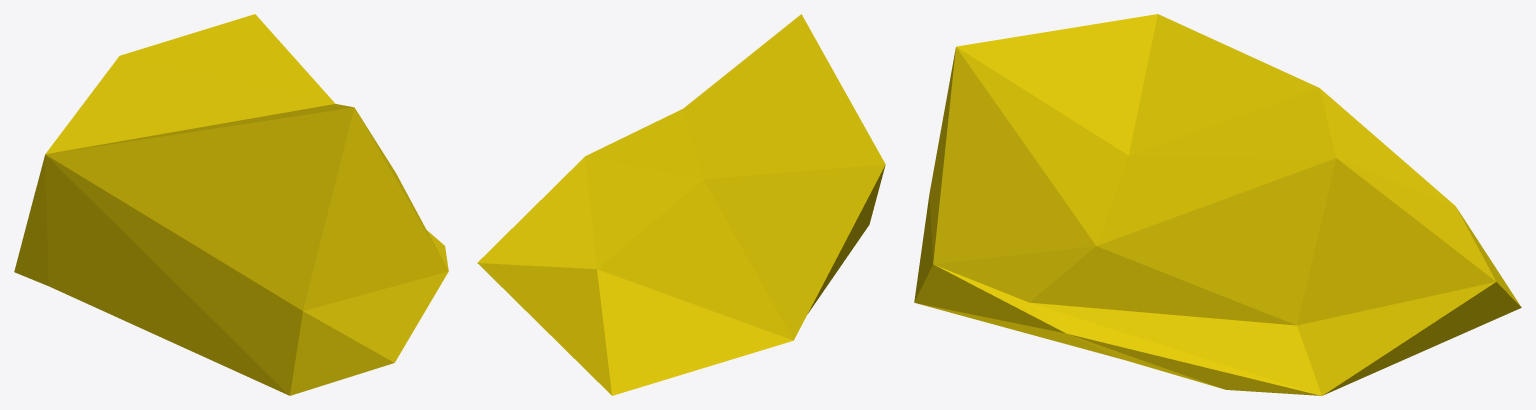
The model's file is Bush#10.fbx.
3 renders of one model, left to right at view 1: azimuth 30°, elevation 25°; view 2: azimuth 150°, elevation 25°; view 3: azimuth 270°, elevation 25°, orthographic. The views are drawn at different scales.
Parts seen in each view (by area): view 1: Bush#10; view 2: Bush#10; view 3: Bush#10.
Part boxes in pixels (bbox=[...]): Bush#10: bbox=[14, 14, 448, 395]; Bush#10: bbox=[477, 14, 885, 395]; Bush#10: bbox=[914, 14, 1521, 395].
Size of the model in its own units: 326 by 214 by 422.
